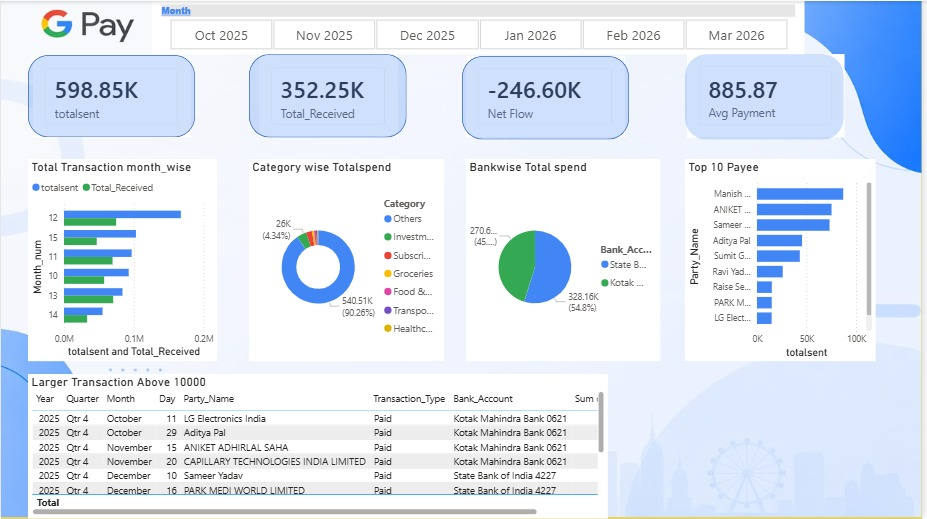

This screenshot's page, from the dashboard's own definition file:
{"tool":"powerbi","page":{"name":"Page 1","canvas":[1280,720],"ordinal":0},"visuals":[{"type":"cardVisual","fields":{"Data":["gpay.totalsent"]},"box":[44.1,76.8,219.1,112.8],"z":0},{"type":"cardVisual","fields":{"Data":["gpay.Total_Received"]},"box":[358,75.2,192.9,114.4],"z":1000},{"type":"cardVisual","fields":{"Data":["gpay.Net Flow"]},"box":[645.7,76.8,220.7,112.8],"z":2000},{"type":"cardVisual","fields":{"Data":["gpay.Avg Payment"]},"box":[953.1,73.6,219.1,116.1],"z":3000},{"type":"shape","box":[344.9,73.6,219.1,116.1],"z":4000},{"type":"shape","box":[37.6,75.2,232.1,114.4],"z":5000},{"type":"shape","box":[640.8,76.8,232.1,116.1],"z":6000},{"type":"shape","box":[951.4,73.6,220.7,119.3],"z":7000},{"type":"clusteredBarChart","title":"Total Transaction month_wise","fields":{"Y":["gpay.totalsent","gpay.Total_Received"],"Category":["gpay.Month_num"]},"box":[37.6,219.1,263.2,281.2],"z":8000},{"type":"donutChart","title":"Category wise Totalspend","fields":{"Category":["gpay.Category"],"Y":["gpay.totalsent"]},"box":[344.9,219.1,271.4,281.2],"z":9000},{"type":"pieChart","title":"Bankwise Total spend","fields":{"Category":["gpay.Bank_Account"],"Y":["gpay.totalsent"]},"box":[645.7,219.1,269.7,281.2],"z":10000},{"type":"barChart","title":"Top 10 Payee","fields":{"Category":["gpay.Party_Name"],"Y":["gpay.totalsent"]},"box":[951.4,219.1,264.8,281.2],"z":11000},{"type":"tableEx","title":"Larger Transaction Above 10000","fields":{"Values":["gpay.Date.Variation.Date Hierarchy.Year","gpay.Date.Variation.Date Hierarchy.Quarter","gpay.Date.Variation.Date Hierarchy.Month","gpay.Date.Variation.Date Hierarchy.Day","gpay.Party_Name","gpay.Transaction_Type","gpay.Bank_Account","Sum(gpay.Amount_INR)"]},"box":[37.6,518.2,805.9,201.1],"z":12000},{"type":"slicer","fields":{"Values":["gpay.Month_year"]},"box":[209.2,0,907.3,73.6],"z":13000}]}

Visuals, with their boxes in screenshot pixels (x1, y1, x2, y2), scaled from the page's 1280x720 canvas onto the 927x519 screenshot:
cardVisual - gpay.totalsent: box=[32, 55, 191, 137]
cardVisual - gpay.Total_Received: box=[259, 54, 399, 137]
cardVisual - gpay.Net Flow: box=[468, 55, 627, 137]
cardVisual - gpay.Avg Payment: box=[690, 53, 849, 137]
shape: box=[250, 53, 408, 137]
shape: box=[27, 54, 195, 137]
shape: box=[464, 55, 632, 139]
shape: box=[689, 53, 849, 139]
"Total Transaction month_wise" clusteredBarChart: box=[27, 158, 218, 361]
"Category wise Totalspend" donutChart: box=[250, 158, 446, 361]
"Bankwise Total spend" pieChart: box=[468, 158, 663, 361]
"Top 10 Payee" barChart: box=[689, 158, 881, 361]
"Larger Transaction Above 10000" tableEx: box=[27, 374, 611, 518]
slicer - gpay.Month_year: box=[152, 0, 809, 53]
